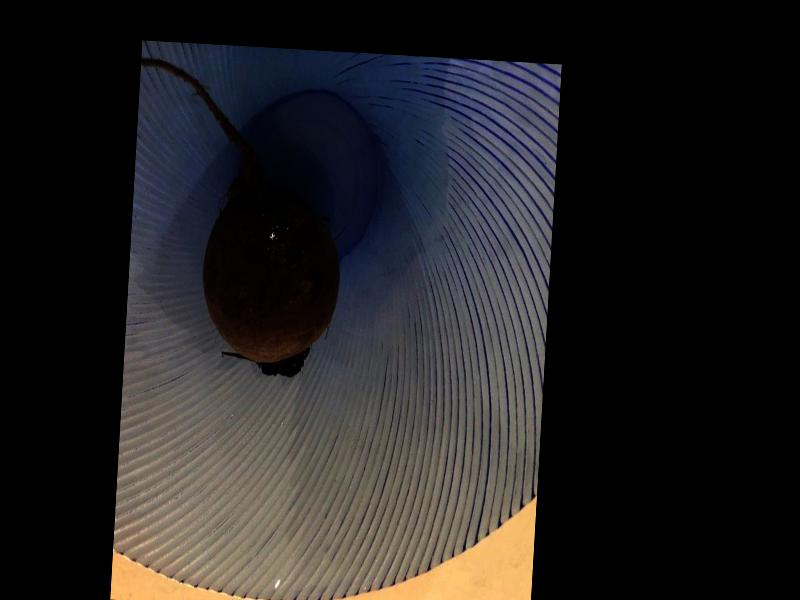Beet: (123, 59, 351, 381)
